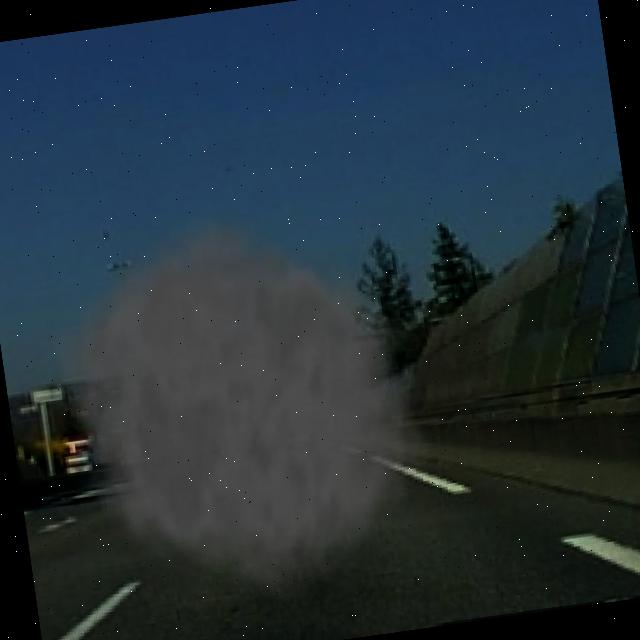smoke: (22, 179, 452, 640)
